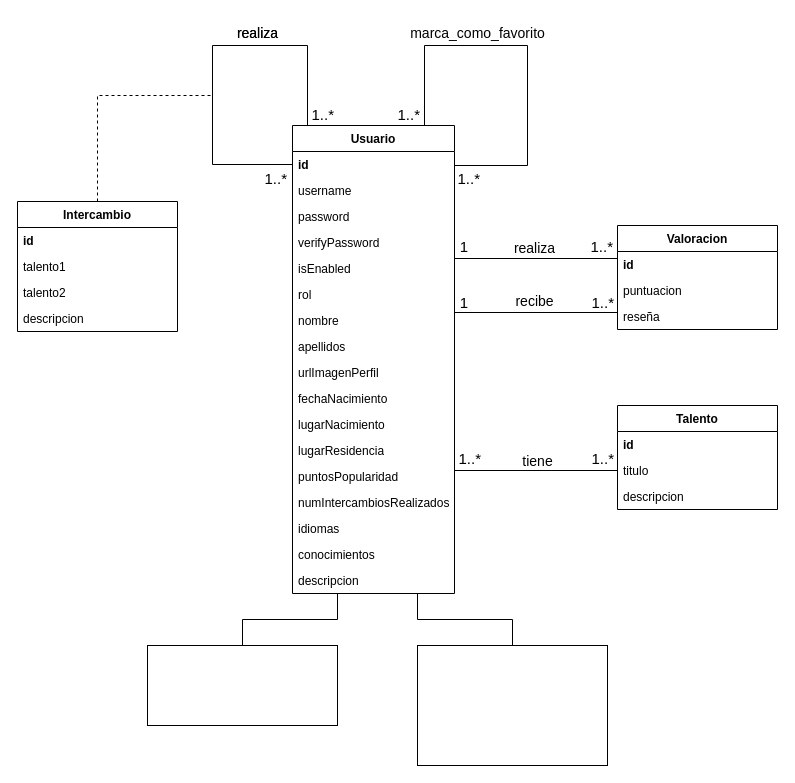
Image size: 795x783. Some labels were removed from this diagram. Each missing label, with the centre of its shape:
"<<Enumeration>> Provincias ALAVA ALBACETE ALICANTE ALMERIA ..." belongs at (x=512, y=705).
"<<Enumeration>> Rol USUARIO ADMIN" belongs at (x=242, y=685).
